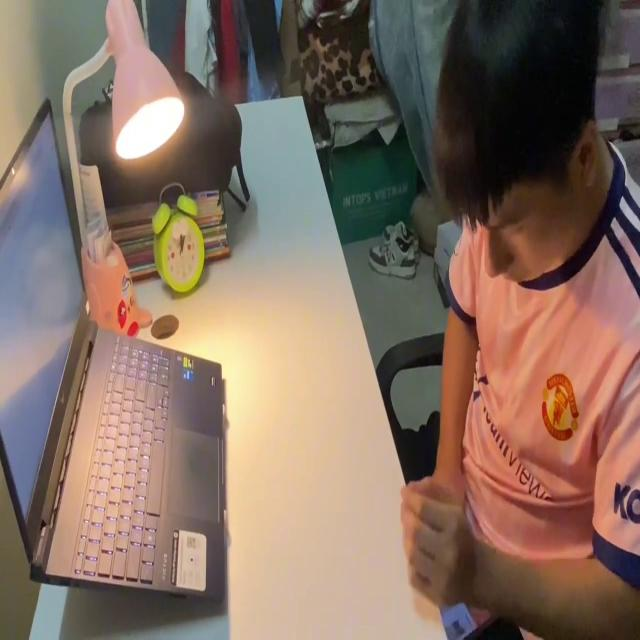laptop: (0, 86, 228, 610)
phone: (440, 600, 480, 640)
student: (399, 0, 640, 640)
